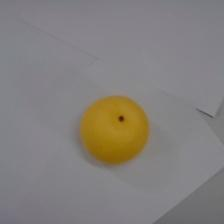yellow: (81, 96, 149, 164)
